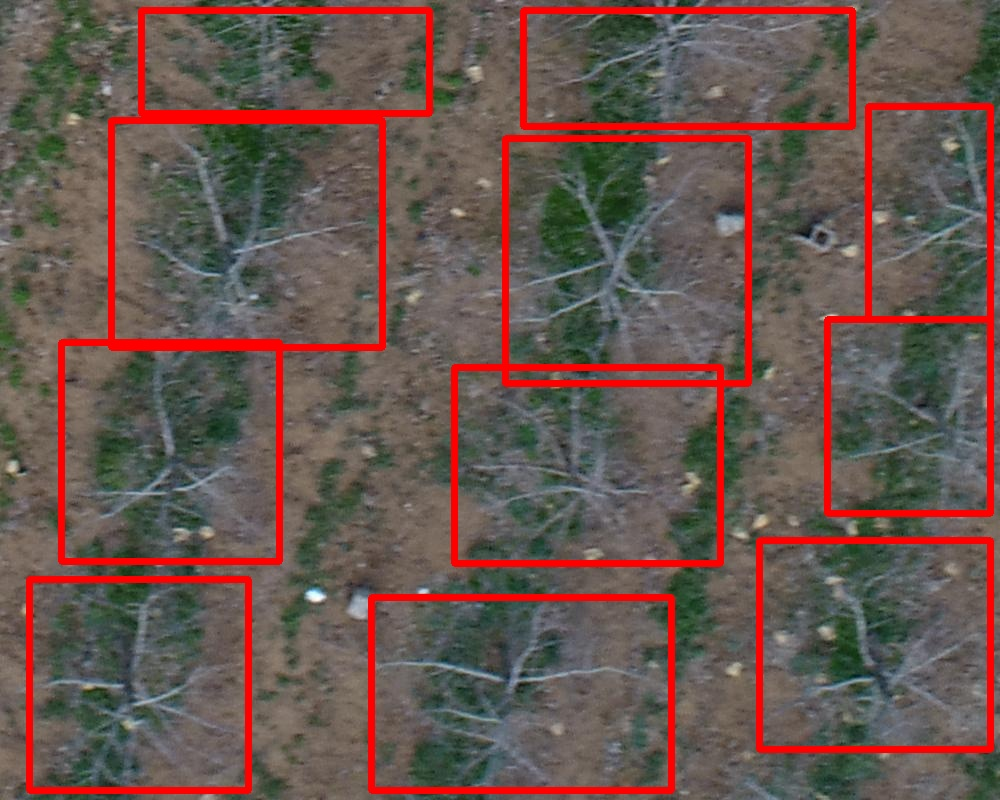apple: (111, 120, 382, 347), (505, 138, 748, 383), (371, 597, 671, 790), (454, 367, 720, 563), (759, 540, 990, 749), (61, 342, 279, 561), (29, 579, 248, 790), (523, 10, 852, 126), (827, 319, 990, 513), (141, 10, 429, 113), (868, 106, 990, 319)
